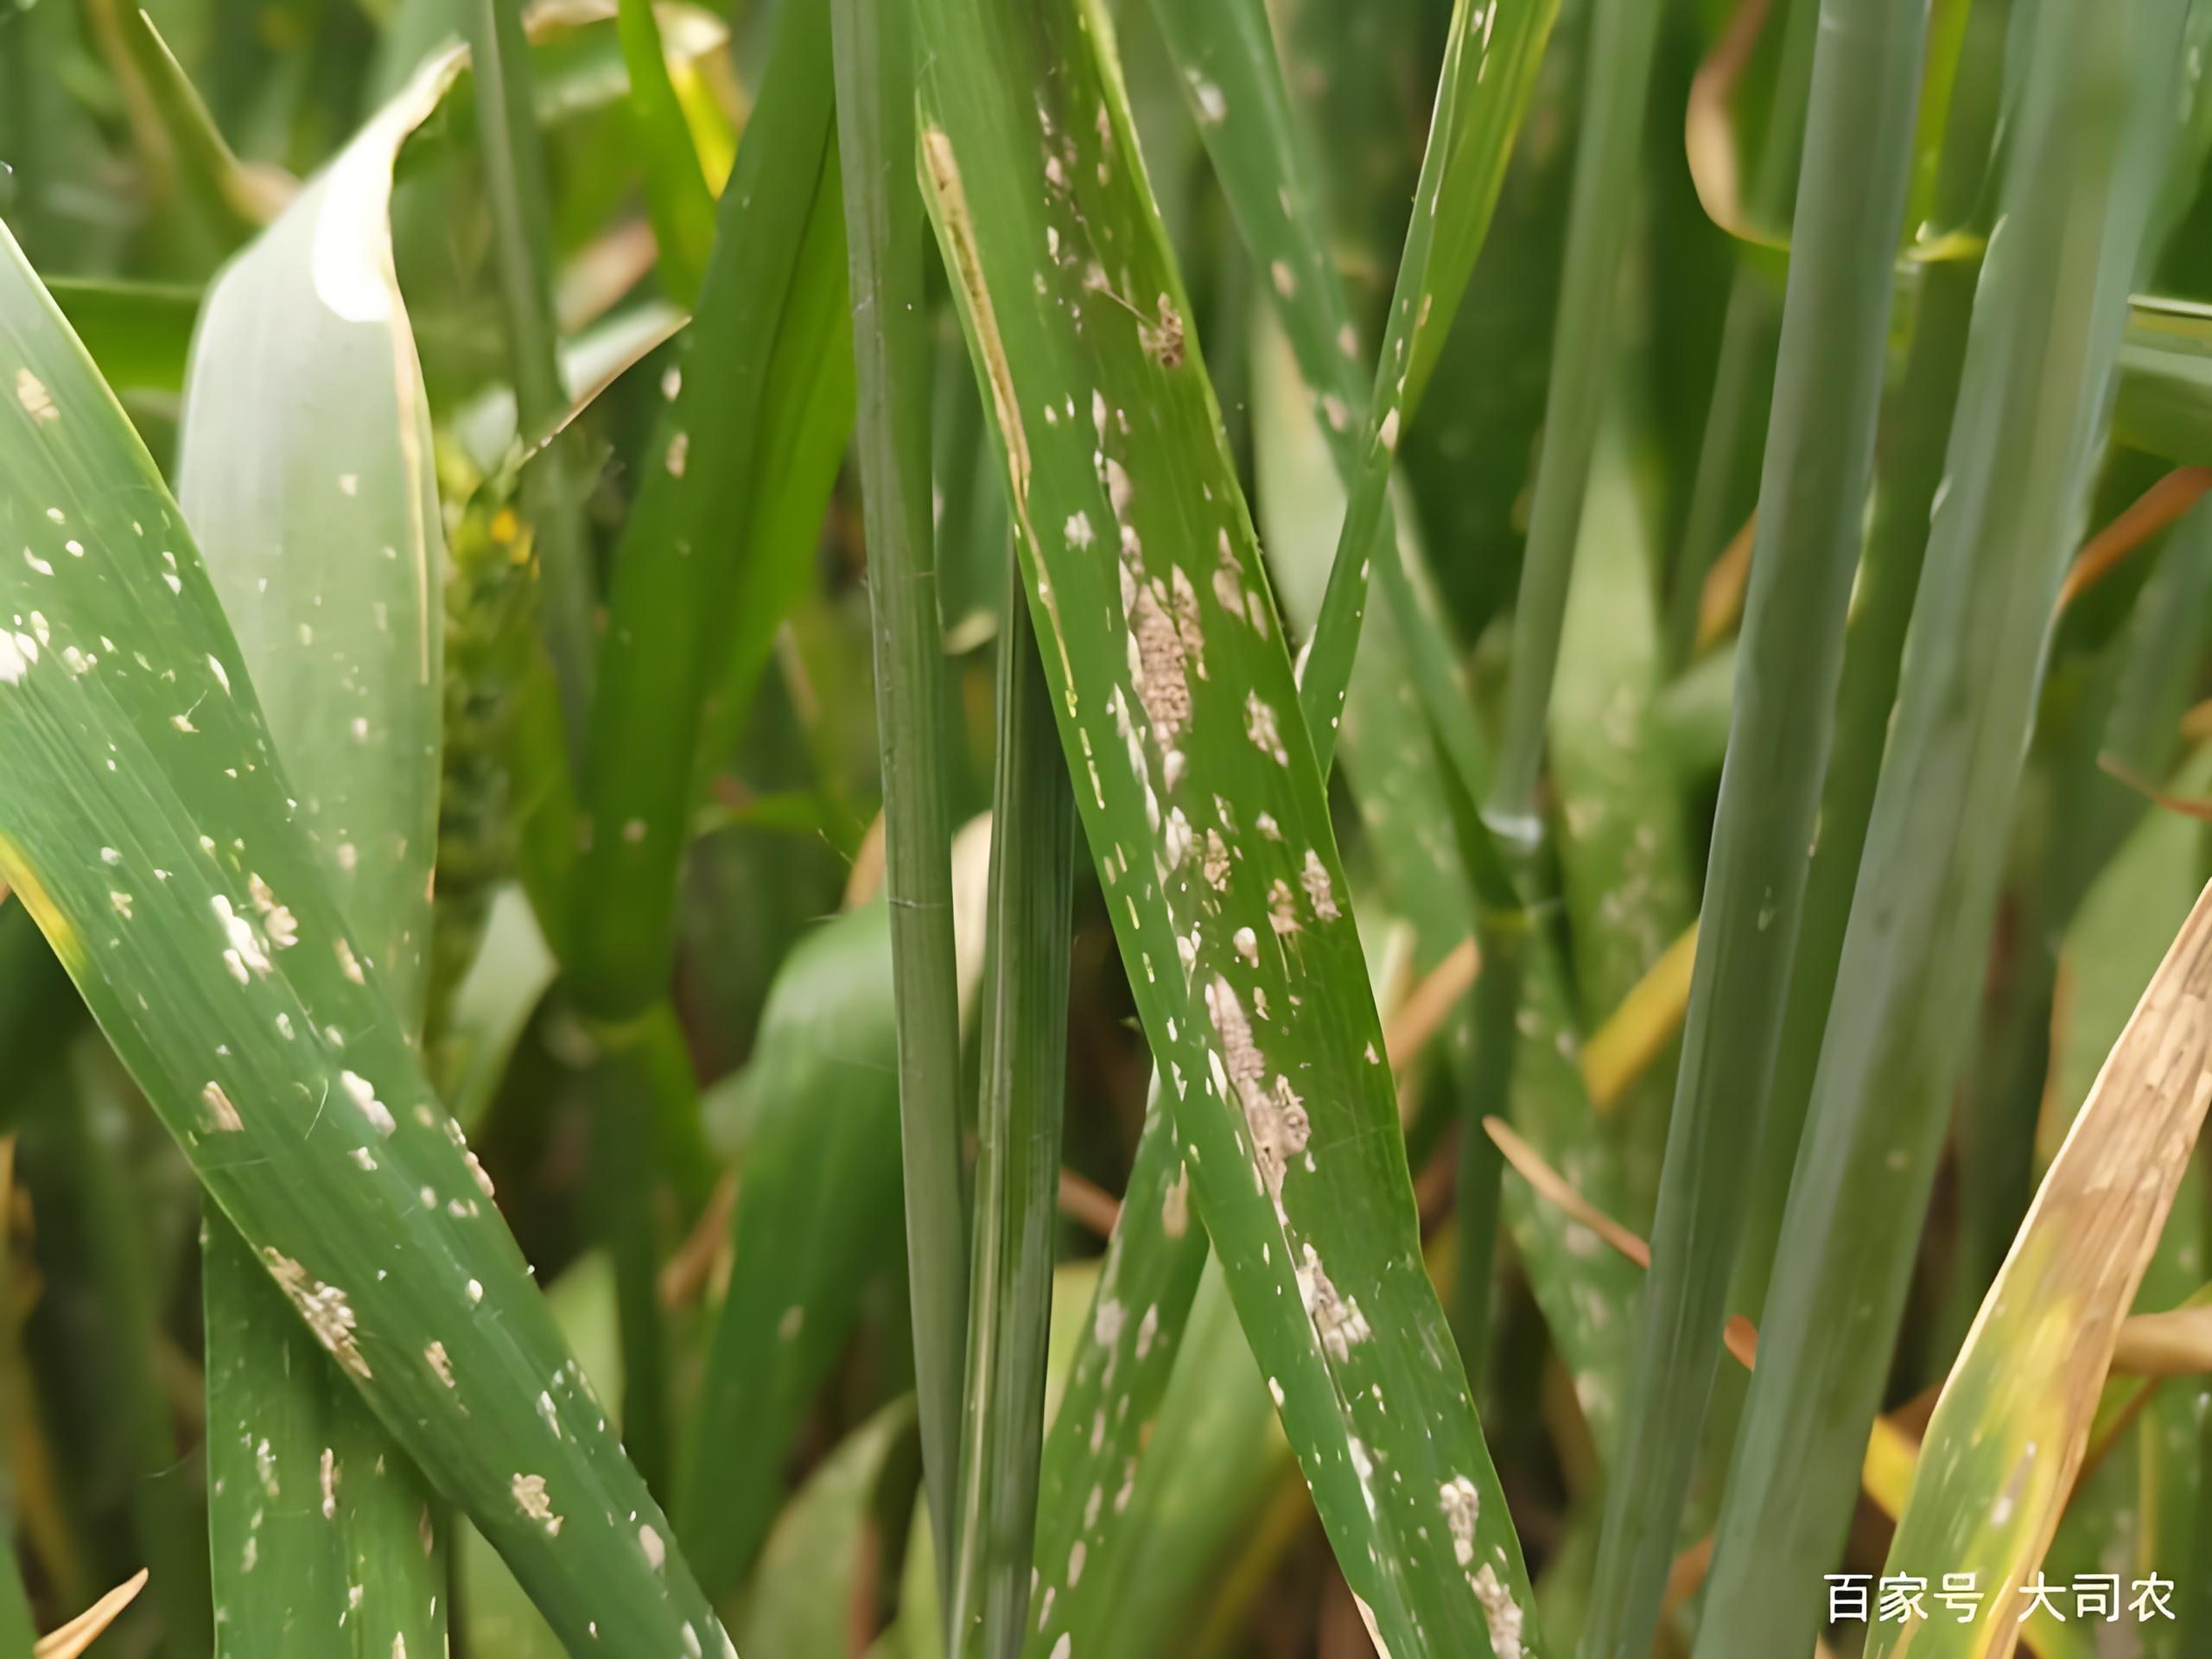Powdery Mildew: (996, 404, 1536, 1598)
